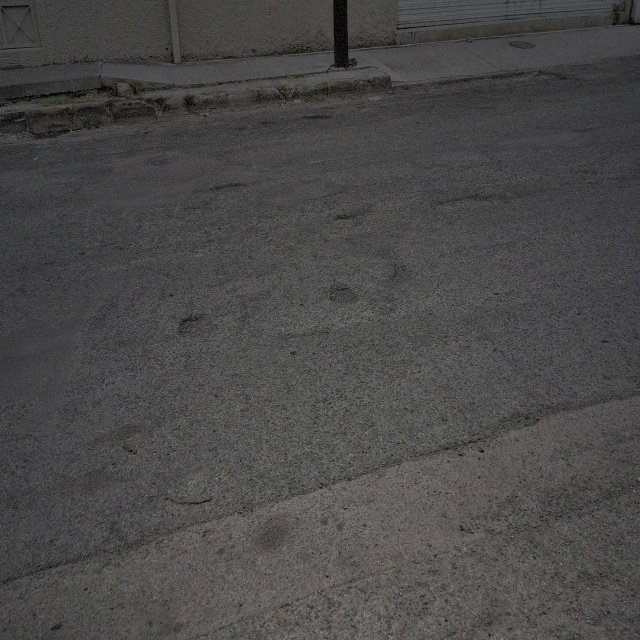pothole: (434, 195, 499, 216), (340, 210, 377, 234), (328, 284, 361, 308), (178, 314, 203, 338), (219, 178, 246, 196)
